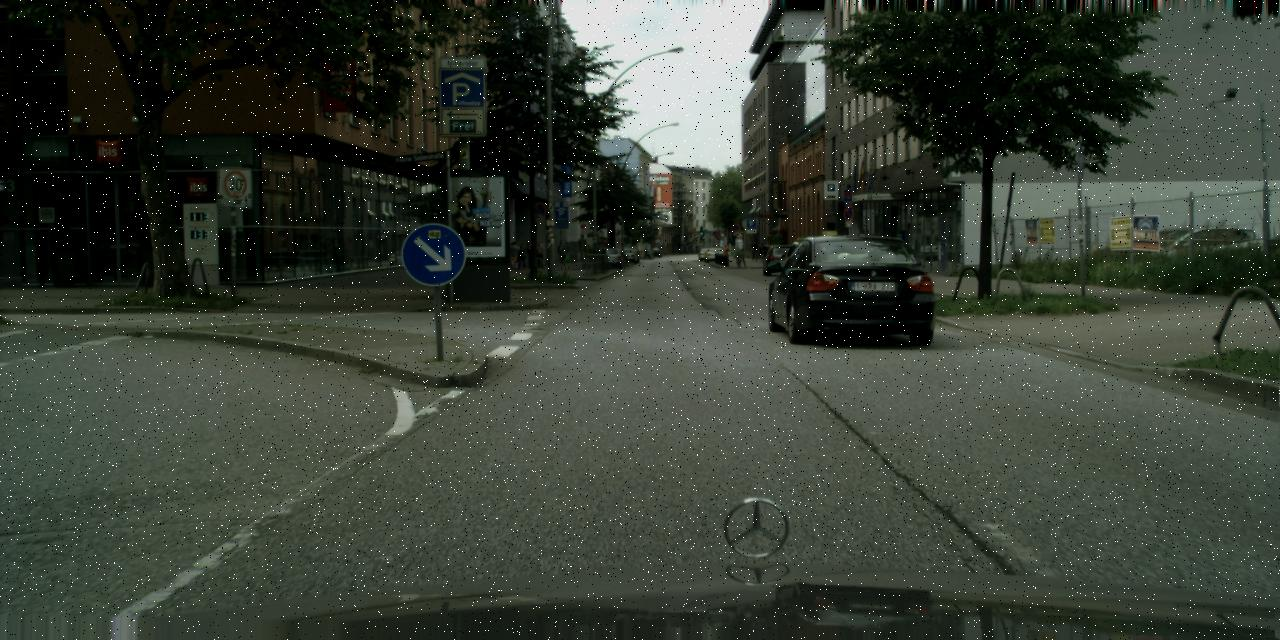ped: (515, 241, 526, 268), (523, 242, 534, 268), (534, 240, 544, 268), (508, 240, 518, 268), (556, 242, 565, 264), (757, 242, 765, 262), (750, 242, 757, 259)
